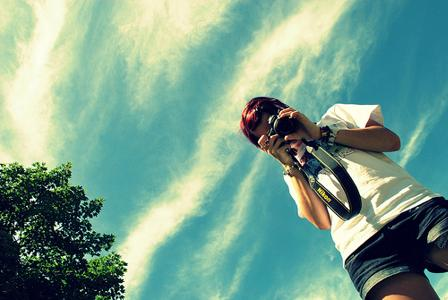person: (239, 95, 448, 300)
